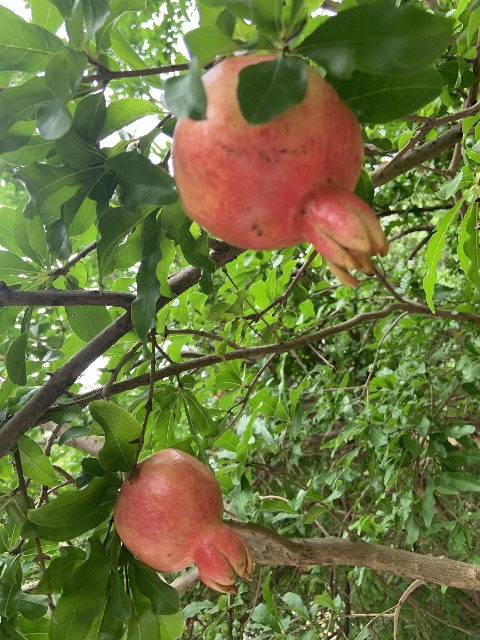ripe: (172, 53, 389, 287), (114, 448, 252, 593)
